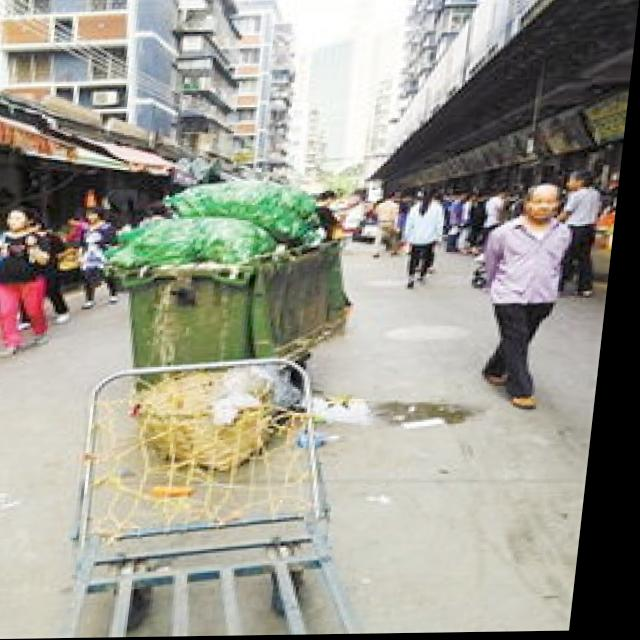overflow: (95, 176, 369, 373)
